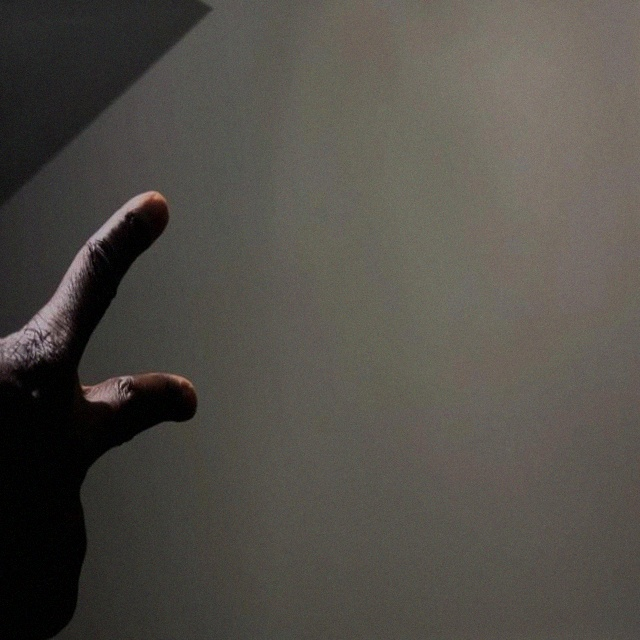Scissors: (0, 189, 220, 640)
